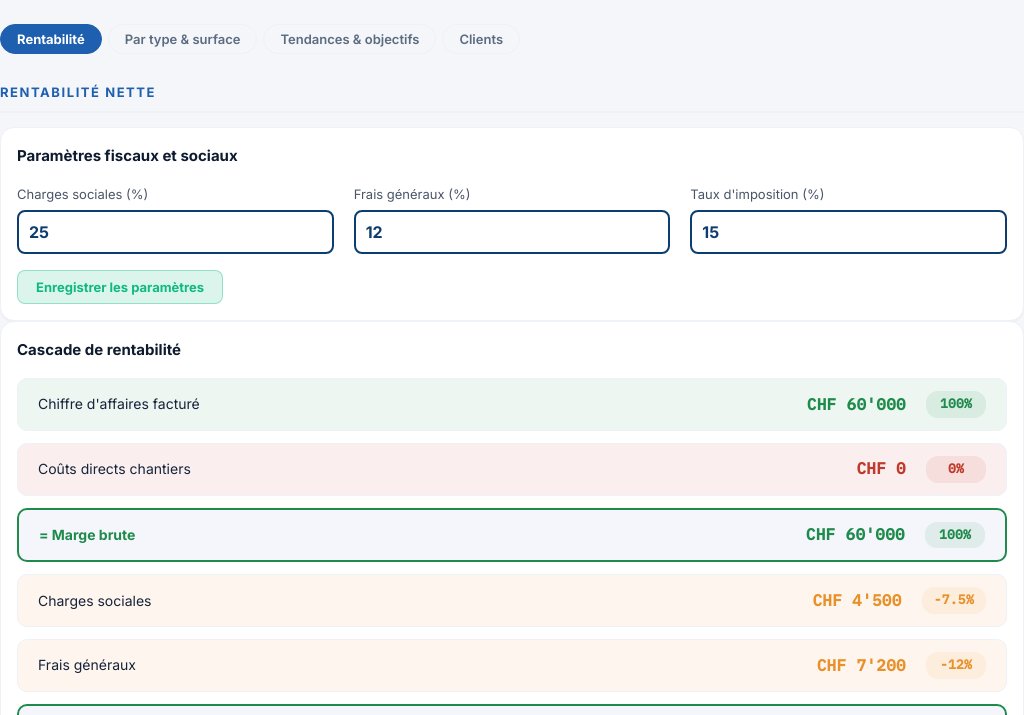
Scenario: TOP CLIENTS — podium + classement (vraies valeurs) › affiche le podium et le tableau de classement avec le client réel
Click the button "Clients" at [481, 39], box [442,24,520,54]
(page scrolled)
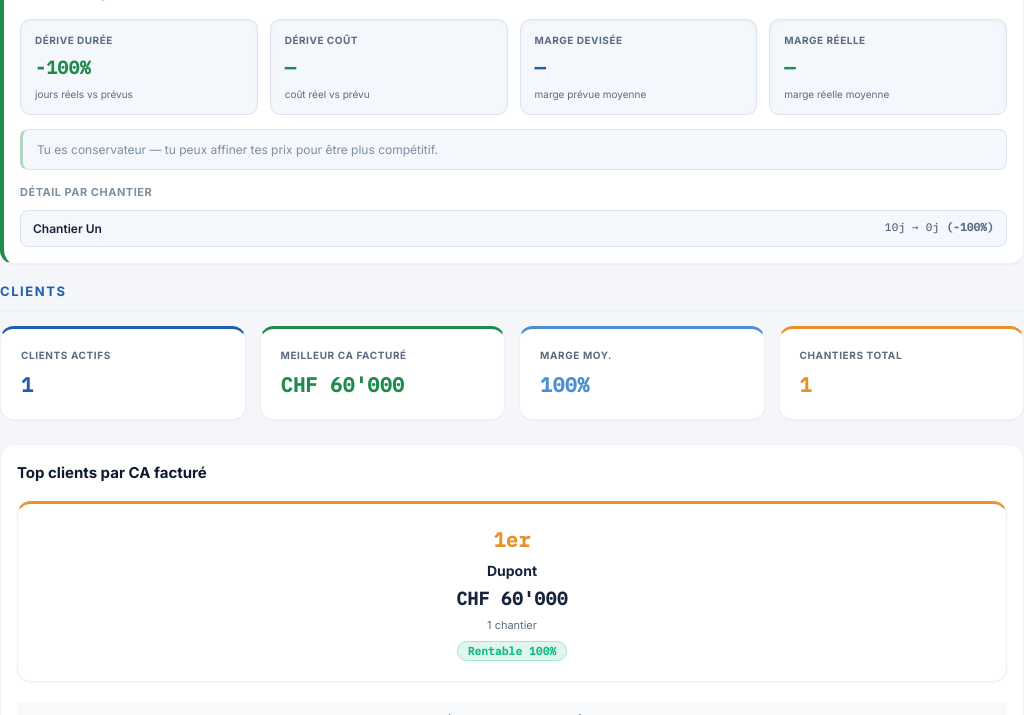
Check: the text "Top clients par CA facturé" is shown, box [17,463,207,482]
Check: the text "1er" is shown, box [493,526,531,553]
Check: the text "Dupont" is shown, box [487,562,537,579]
